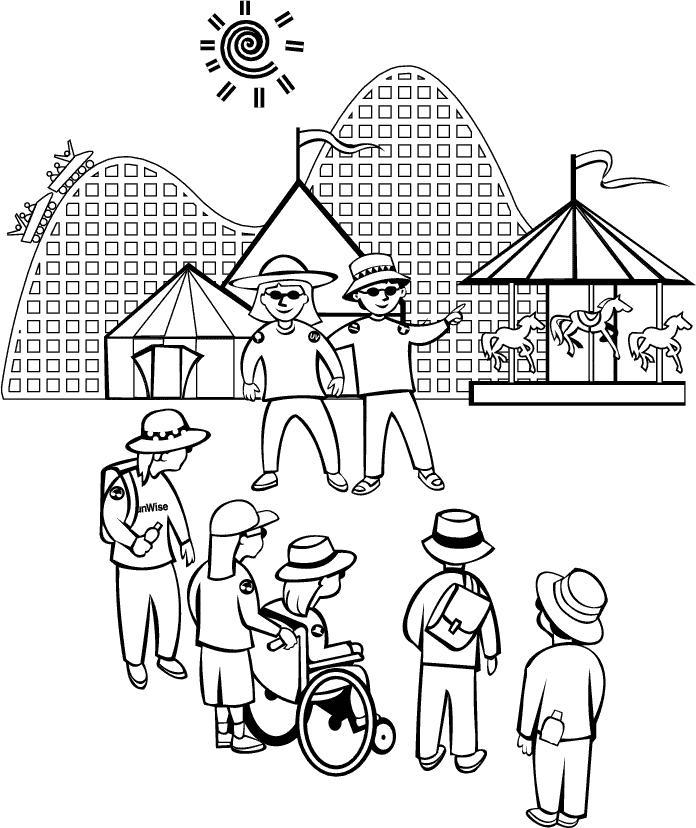horse: (547, 290, 633, 362), (472, 306, 539, 379), (620, 309, 690, 377)
person: (222, 242, 356, 497), (84, 396, 200, 689), (328, 248, 450, 492), (395, 503, 497, 779), (504, 564, 608, 825), (181, 502, 270, 756), (268, 528, 380, 724)
